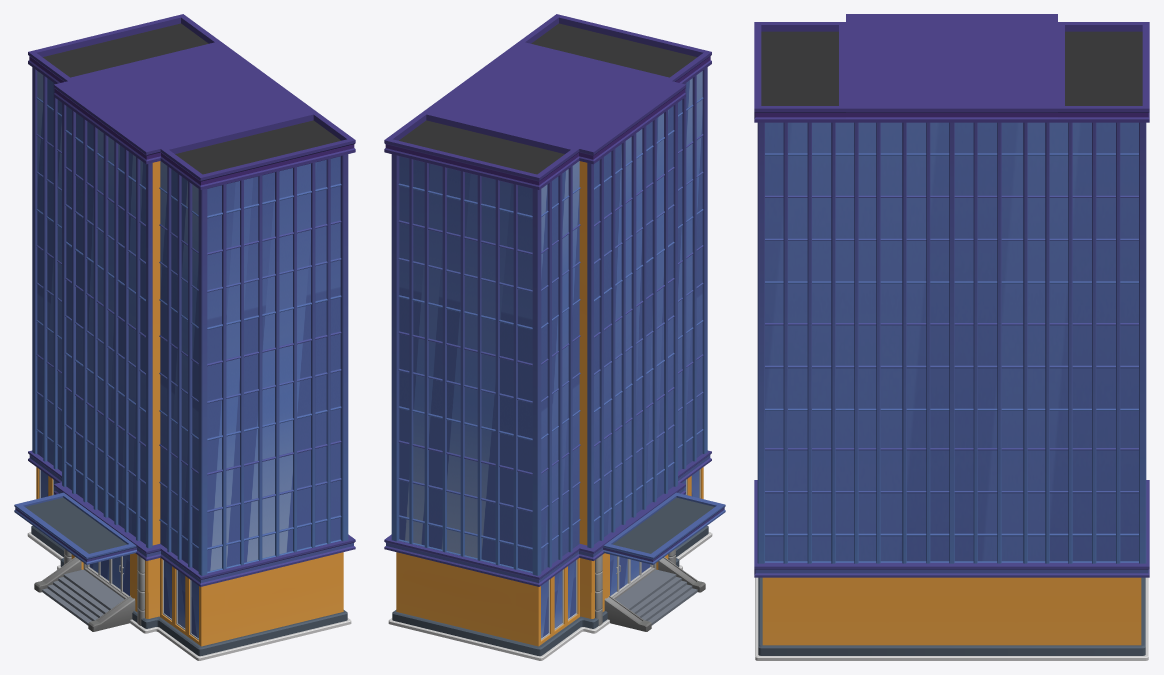
Rendered from Building_17_2_B.fbx.
The picture shows the model from 3 angles, left to right: view 1: azimuth 30°, elevation 25°; view 2: azimuth 150°, elevation 25°; view 3: azimuth 270°, elevation 25°; orthographic projection. The views are drawn at different scales.
Parts seen in each view (by area): view 1: Building_17_2_B; view 2: Building_17_2_B; view 3: Building_17_2_B.
Part boxes in pixels (bbox=[...]): Building_17_2_B: bbox=[14, 14, 355, 660]; Building_17_2_B: bbox=[384, 14, 725, 660]; Building_17_2_B: bbox=[754, 14, 1149, 660].
Size of the model in its own units: 857 by 1805 by 1168.
